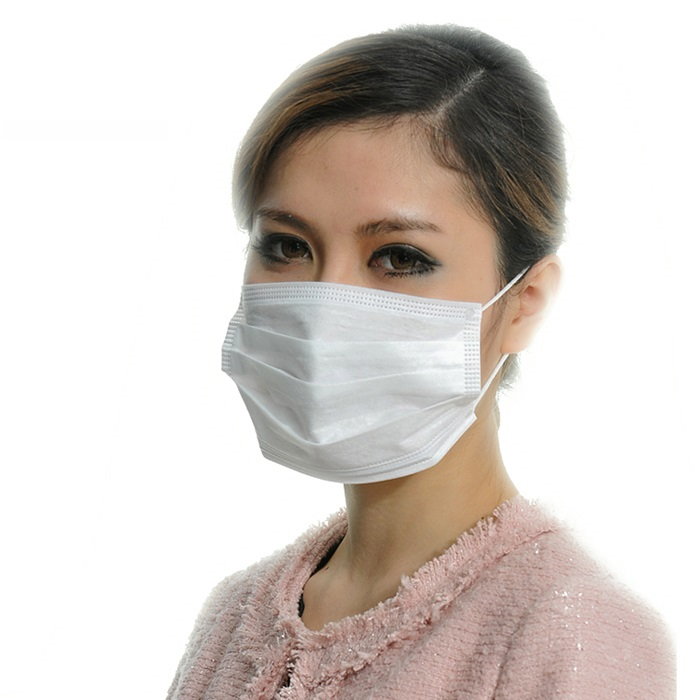face_mask: (234, 116, 494, 467)
